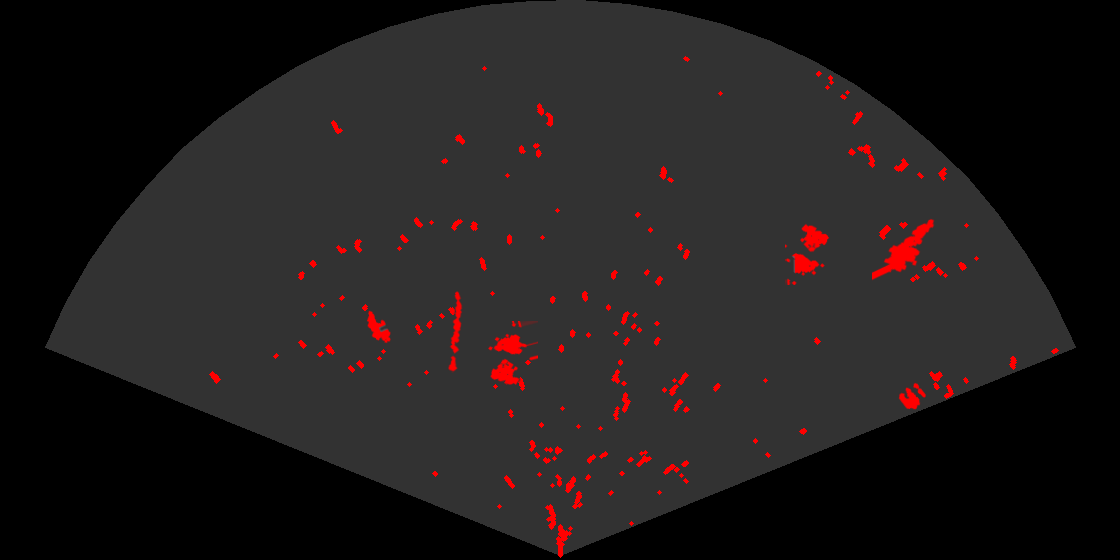AUV: (365, 309, 392, 345)
ball: (897, 381, 928, 411)
cage: (487, 321, 538, 387), (785, 222, 831, 285)
chain: (447, 290, 464, 373)
frogman: (872, 217, 936, 282)
